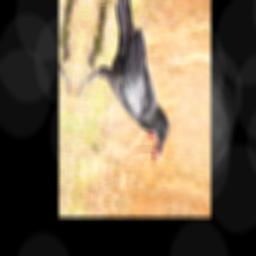Crow: (69, 0, 191, 175)
